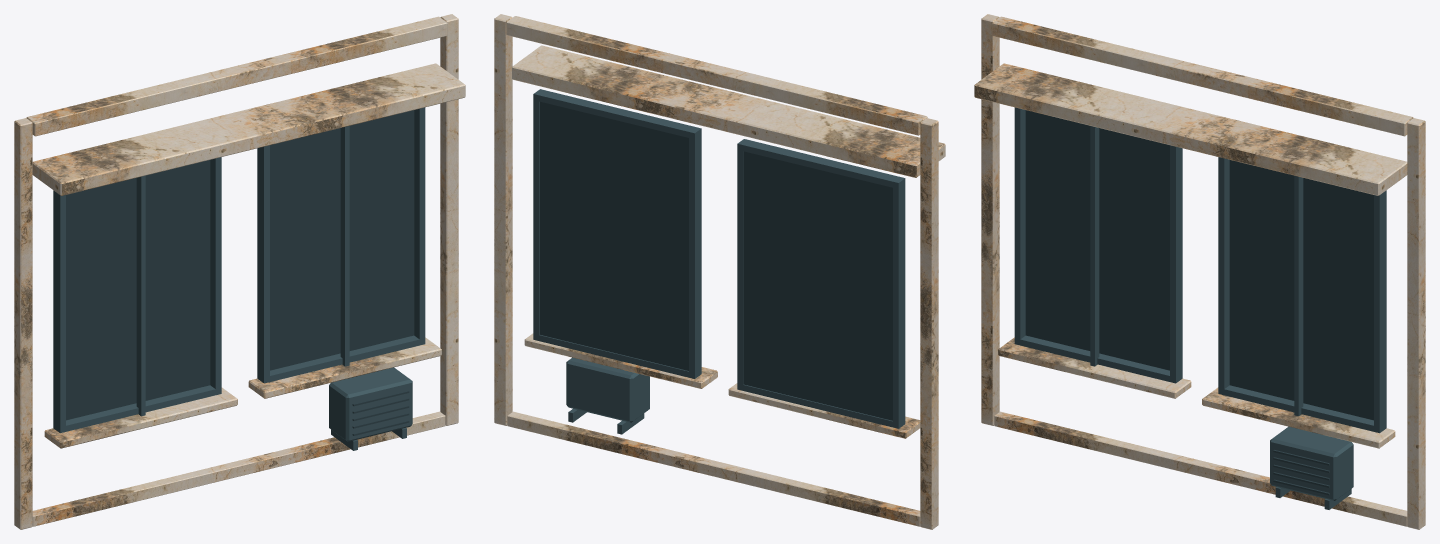
Rendered from facade_aged_office_upper.glb.
3 renders of one model, left to right at view 1: azimuth 30°, elevation 25°; view 2: azimuth 150°, elevation 25°; view 3: azimuth 330°, elevation 25°, orthographic.
Parts seen in each view (by area): view 1: facade_aged_office_upper__VVK_dark_glass, facade_aged_office_upper__VVK_concrete_CC0, facade_aged_office_upper__VVK_painted_steel; view 2: facade_aged_office_upper__VVK_dark_glass, facade_aged_office_upper__VVK_concrete_CC0, facade_aged_office_upper__VVK_painted_steel; view 3: facade_aged_office_upper__VVK_dark_glass, facade_aged_office_upper__VVK_concrete_CC0, facade_aged_office_upper__VVK_painted_steel.
Boxes of the visible parts, x1,y1,x2,y2 form: facade_aged_office_upper__VVK_dark_glass: (66,110,414,435); facade_aged_office_upper__VVK_concrete_CC0: (14,14,465,529); facade_aged_office_upper__VVK_painted_steel: (53,107,425,450); facade_aged_office_upper__VVK_dark_glass: (540,101,892,420); facade_aged_office_upper__VVK_concrete_CC0: (494,14,945,529); facade_aged_office_upper__VVK_painted_steel: (533,89,905,434); facade_aged_office_upper__VVK_dark_glass: (1025,110,1373,495); facade_aged_office_upper__VVK_concrete_CC0: (974,14,1425,529); facade_aged_office_upper__VVK_painted_steel: (1014,107,1386,509).
Size of the model in its own units: 3.4 by 3 by 0.418.
Materials: 3 (1 with a texture image).
